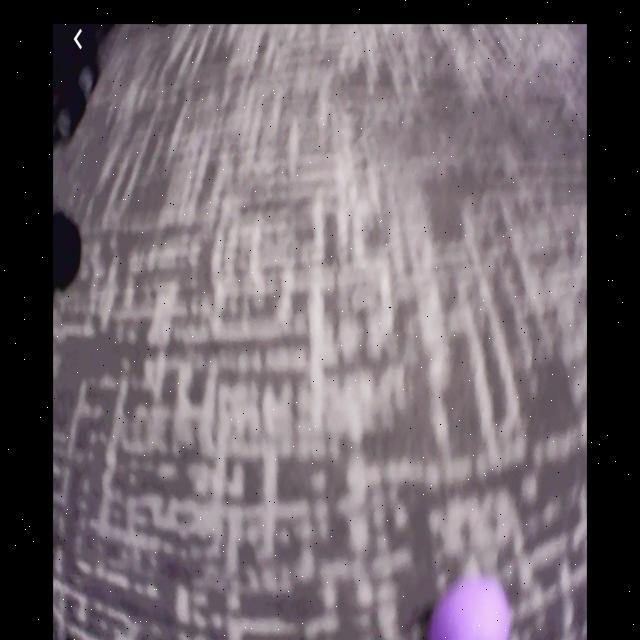ball: (431, 583, 510, 640)
